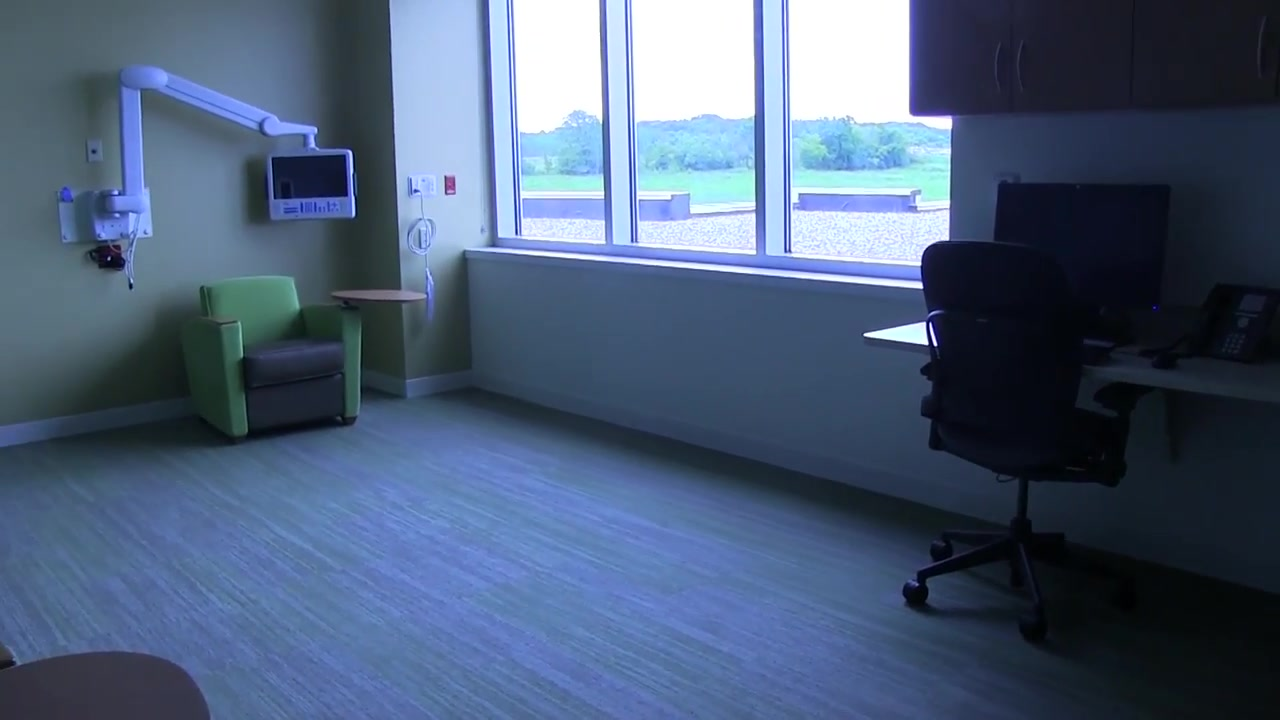bedside_monitor: (267, 149, 356, 221)
cabinet: (908, 1, 1280, 122)
chair: (901, 239, 1152, 641)
computer: (992, 181, 1171, 313)
countertop: (861, 313, 1280, 400)
handle: (1257, 15, 1267, 80), (1015, 41, 1026, 93), (993, 42, 1003, 93)
sofa: (180, 276, 364, 446)
table: (1, 650, 208, 720), (337, 289, 431, 305)
telephone: (1190, 284, 1280, 364)
